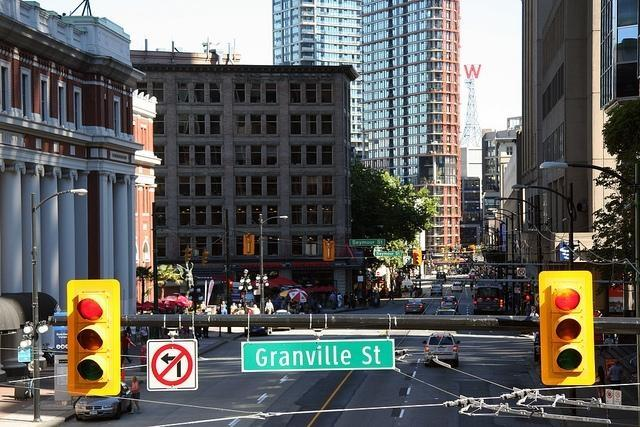bus: (472, 284, 504, 314)
car: (76, 382, 133, 422), (422, 332, 461, 366), (472, 284, 504, 314), (405, 299, 426, 314), (440, 296, 459, 312), (430, 284, 444, 298), (435, 307, 459, 315), (245, 328, 269, 336), (452, 283, 462, 292), (456, 268, 469, 274)
